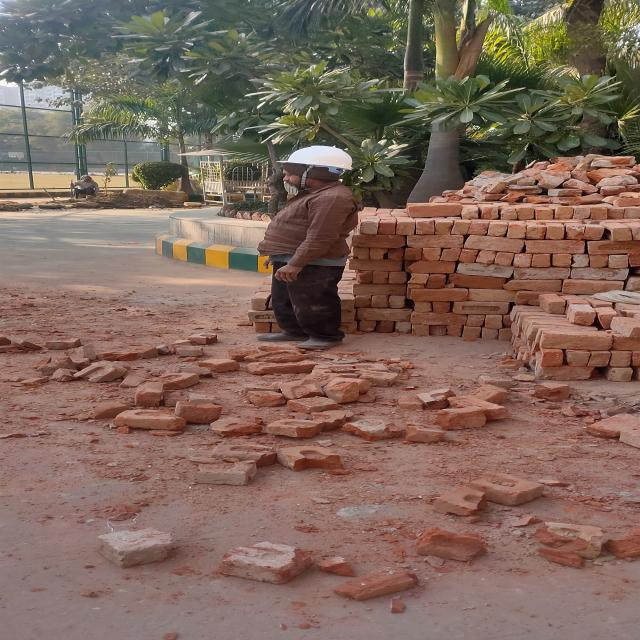no jacket: (260, 145, 357, 349)
unsafe: (69, 174, 99, 200)
